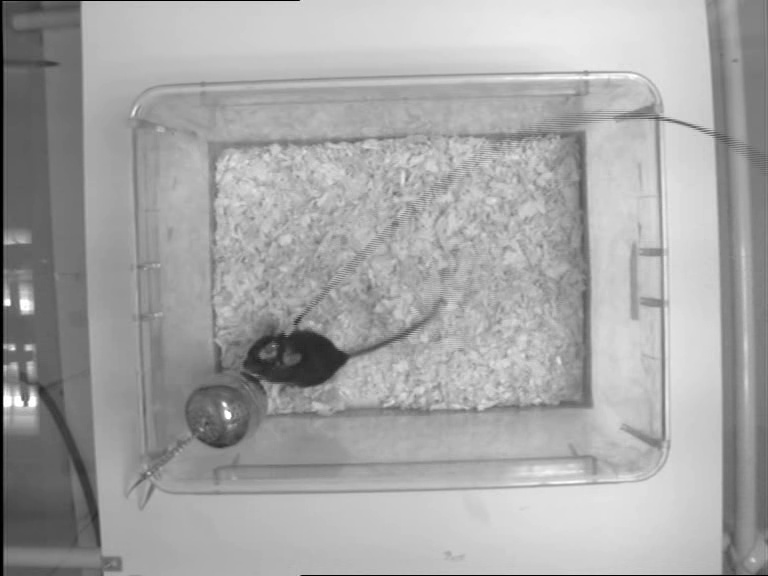mice: (242, 303, 441, 387)
